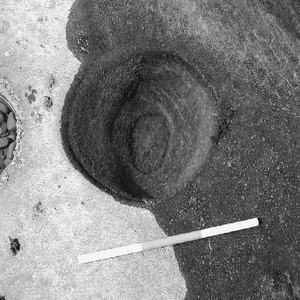pothole: (59, 45, 224, 208)
